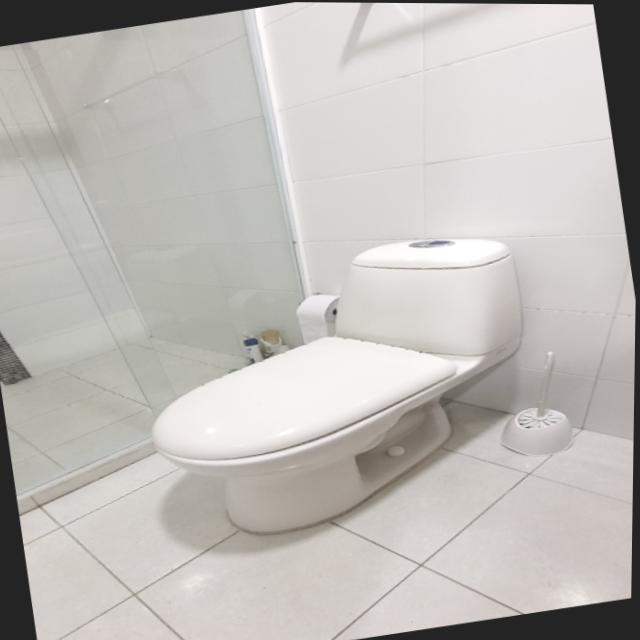toilet: (126, 221, 554, 552)
